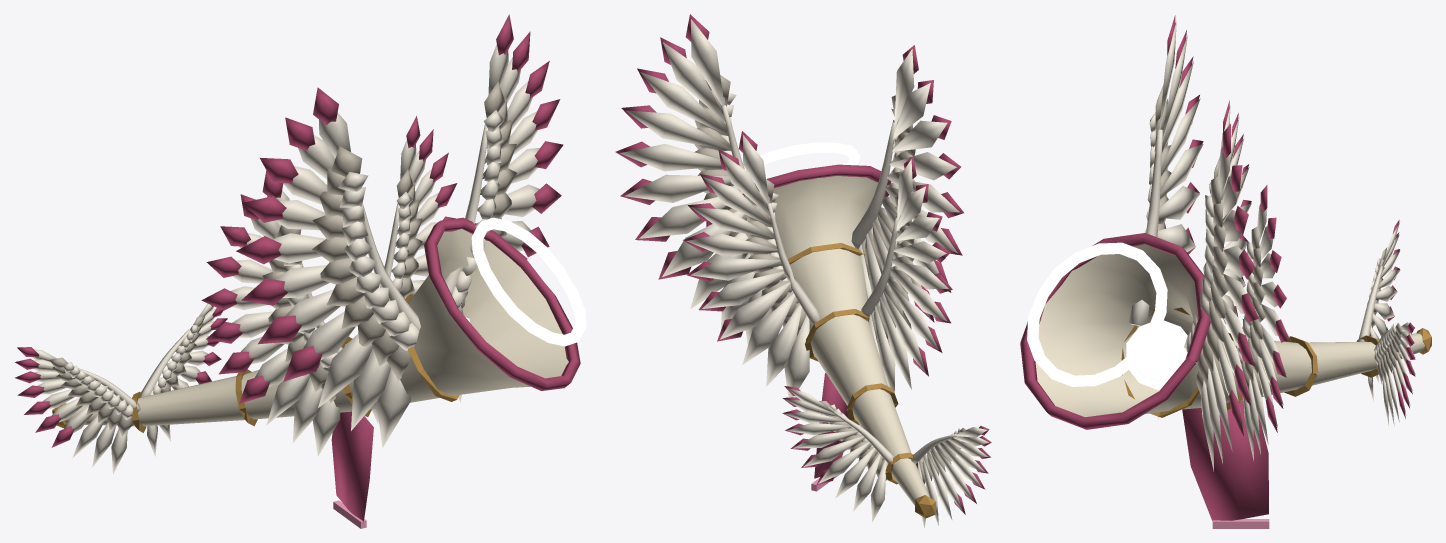
The model's file is angel-unblown-horn.glb.
3 views of the same model, side by side, from view 1: azimuth 30°, elevation 25°; view 2: azimuth 150°, elevation 25°; view 3: azimuth 270°, elevation 25° (orthographic). The views are drawn at different scales.
Visible parts, largest first — view 1: glide_wing3_r, horn, glide_wing3_l, glide_wing2_r, glide_wing_r, glide_wing2_l, bob_halo, sway_pennon, glide_wing_l; view 2: horn, glide_wing3_l, glide_wing2_l, glide_wing3_r, glide_wing2_r, glide_wing_l, glide_wing_r, bob_halo, sway_pennon; view 3: horn, glide_wing3_l, glide_wing3_r, sway_pennon, glide_wing2_l, bob_halo, glide_wing_l, pulse_throat, glide_wing_r, glide_wing2_r.
Boxes of the visible parts, x1,y1,x2,y2 form: glide_wing3_r: [236, 87, 420, 447]; horn: [52, 217, 580, 432]; glide_wing3_l: [445, 14, 563, 402]; glide_wing2_r: [201, 170, 342, 456]; glide_wing_r: [15, 347, 140, 474]; glide_wing2_l: [372, 116, 457, 423]; bob_halo: [471, 217, 586, 346]; sway_pennon: [331, 411, 373, 528]; glide_wing_l: [140, 303, 227, 456]; horn: [706, 164, 935, 518]; glide_wing3_l: [615, 14, 771, 345]; glide_wing2_l: [683, 131, 819, 397]; glide_wing3_r: [851, 45, 963, 347]; glide_wing2_r: [861, 156, 952, 392]; glide_wing_l: [782, 386, 896, 521]; glide_wing_r: [911, 426, 991, 527]; bob_halo: [743, 142, 859, 170]; sway_pennon: [811, 373, 848, 491]; horn: [1020, 233, 1431, 429]; glide_wing3_l: [1184, 124, 1258, 471]; glide_wing3_r: [1129, 15, 1203, 419]; sway_pennon: [1182, 401, 1269, 528]; glide_wing2_l: [1235, 185, 1289, 461]; bob_halo: [1027, 242, 1167, 386]; glide_wing_l: [1374, 322, 1415, 426]; pulse_throat: [1126, 320, 1187, 390]; glide_wing_r: [1358, 220, 1400, 402]; glide_wing2_r: [1209, 100, 1251, 323].
Size of the model in its own units: 1 by 0.9378 by 0.7268.
